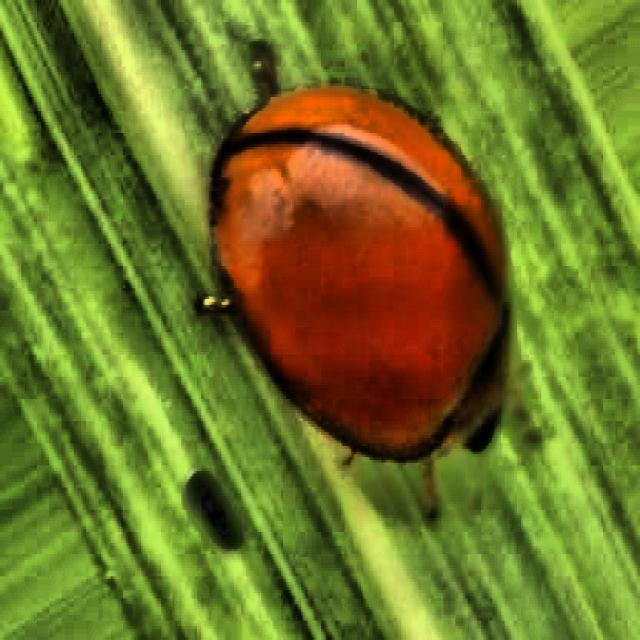Ladybug: (152, 17, 561, 581)
